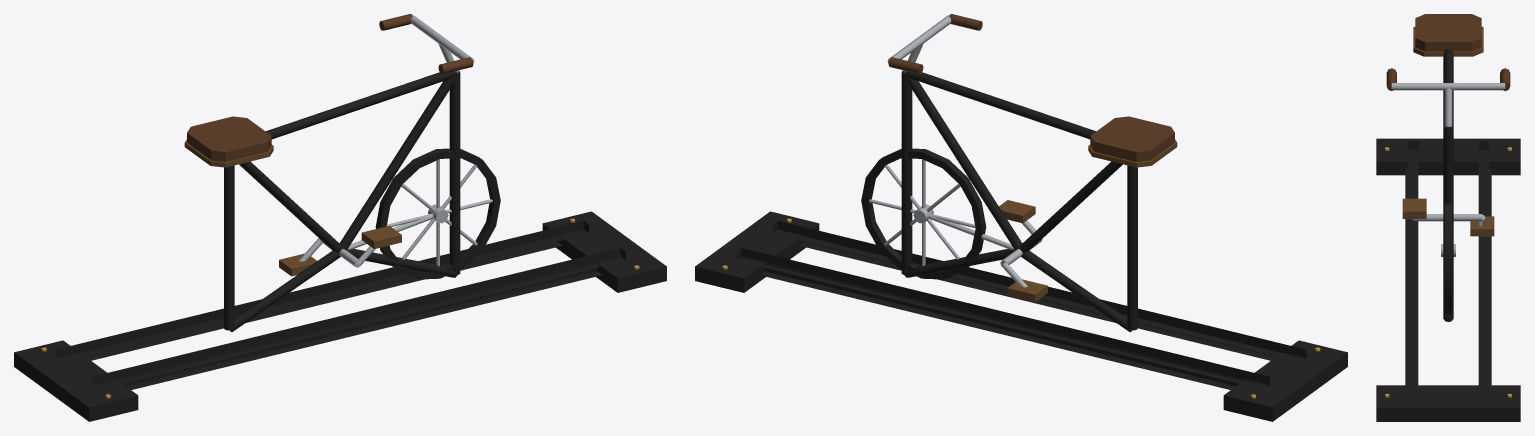
3 views of the same model, side by side, from view 1: azimuth 30°, elevation 25°; view 2: azimuth 150°, elevation 25°; view 3: azimuth 270°, elevation 25° (orthographic). The views are drawn at different scales.
Parts seen in each view (by area): view 1: parametric-variant-machine-1st-pub-7160991175692f7722c9; view 2: parametric-variant-machine-1st-pub-7160991175692f7722c9; view 3: parametric-variant-machine-1st-pub-7160991175692f7722c9.
Boxes of the visible parts, x1=… form: parametric-variant-machine-1st-pub-7160991175692f7722c9: x1=14, y1=14, x2=666, y2=421; parametric-variant-machine-1st-pub-7160991175692f7722c9: x1=695, y1=14, x2=1347, y2=421; parametric-variant-machine-1st-pub-7160991175692f7722c9: x1=1376, y1=14, x2=1520, y2=421.
Bounding box in the file's own units: 2.91 × 1.27 × 0.658.
